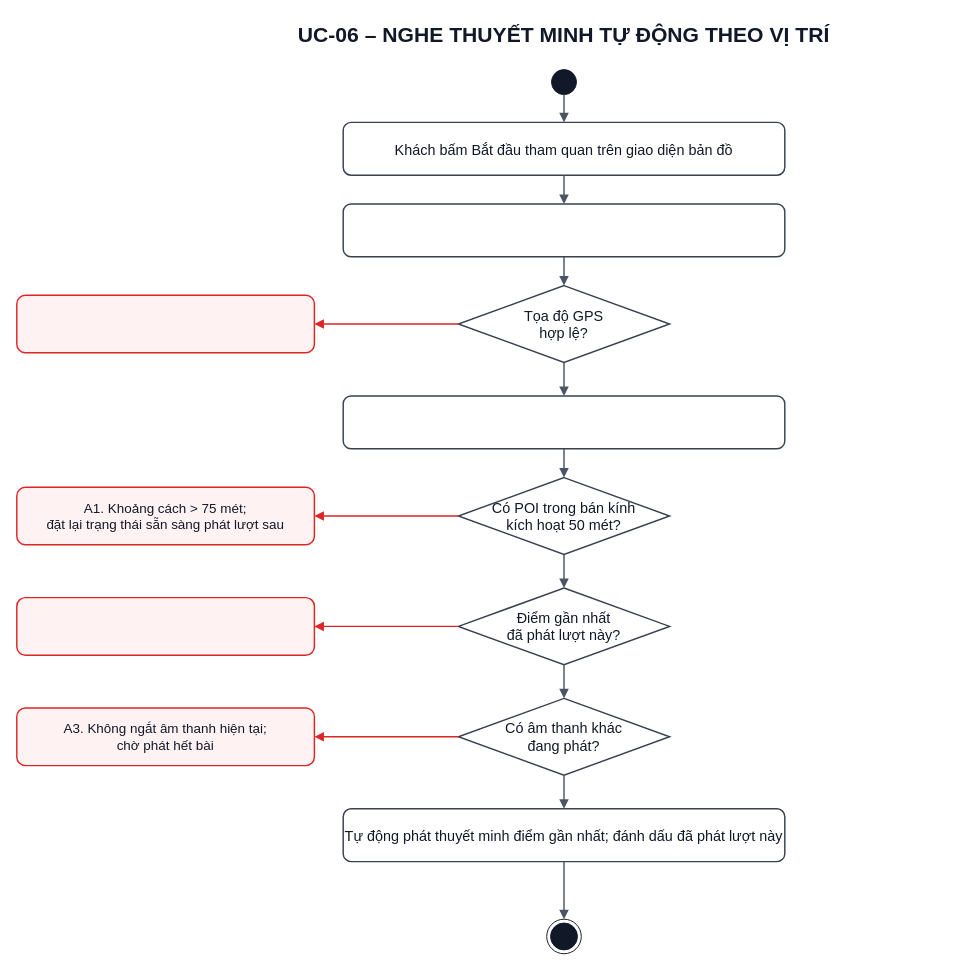
Some shapes in this 965 by 971 pixel diagram are drawn without their labels. The shapes that lost their labels are listed below. From the top down, each one's centre as x and y in pixels, then its label:
At [563,230]: "Trình duyệt định kỳ cập nhật tọa độ định vị GPS".
At [165,323]: "E1. Báo tín hiệu GPS yếu; bỏ qua chu kỳ tính toán".
At [563,422]: "Tính khoảng cách Haversine từ vị trí khách tới các điểm tham quan".
At [165,625]: "A2. Bỏ qua điểm đã phát; không phát lặp trong cùng lượt đến gần".
